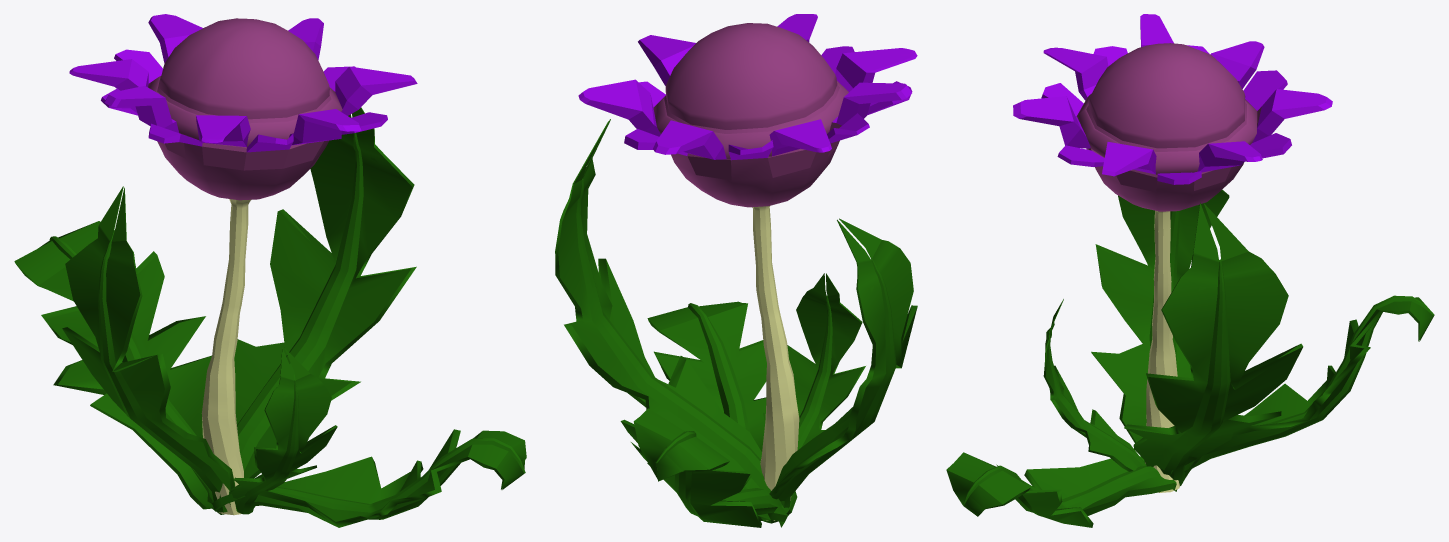
The model's file is _hupadelion.fbx.
The picture shows the model from 3 angles, left to right: view 1: azimuth 30°, elevation 25°; view 2: azimuth 150°, elevation 25°; view 3: azimuth 270°, elevation 25°; orthographic projection. The views are drawn at different scales.
Parts seen in each view (by area): view 1: polySurface7; view 2: polySurface7; view 3: polySurface7.
Part boxes in pixels (<box>): polySurface7: <box>14,14,526,527</box>; polySurface7: <box>555,14,917,527</box>; polySurface7: <box>946,14,1434,527</box>.
Bounding box in the file's own units: 3.51 × 4.76 × 4.72.
